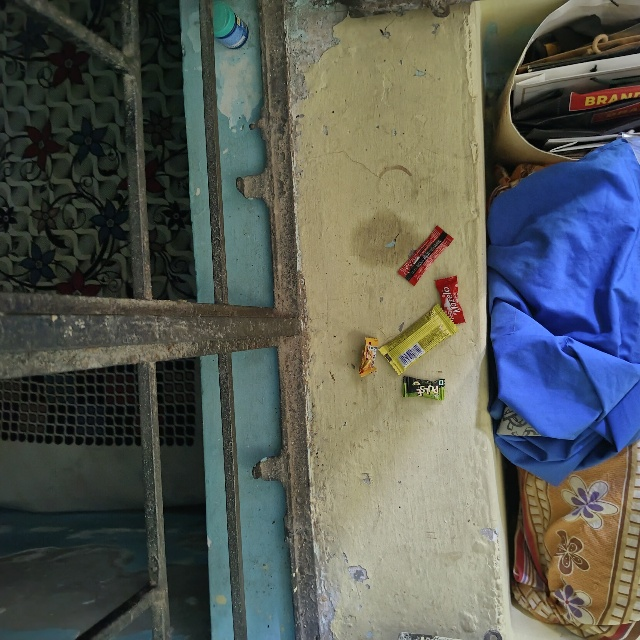Alpenlibe Creamfills: (362, 337, 378, 375)
Mazelo: (434, 279, 458, 327)
Nescafe Coffee: (395, 273, 463, 297)
Orbit: (377, 348, 455, 384)
Pulse: (400, 375, 445, 399)
